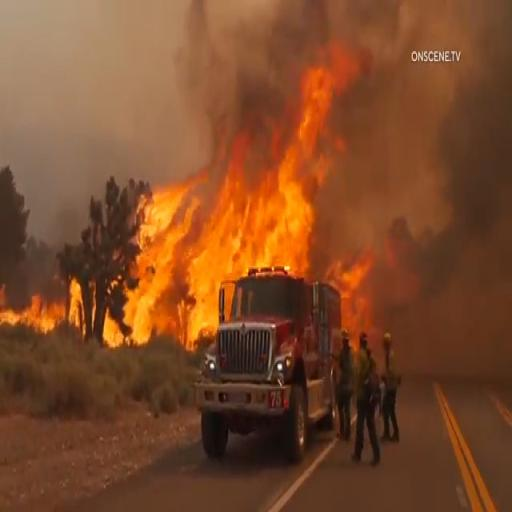fire: (210, 40, 366, 263), (65, 169, 221, 343), (328, 246, 382, 314)
smoke: (412, 100, 506, 346)
